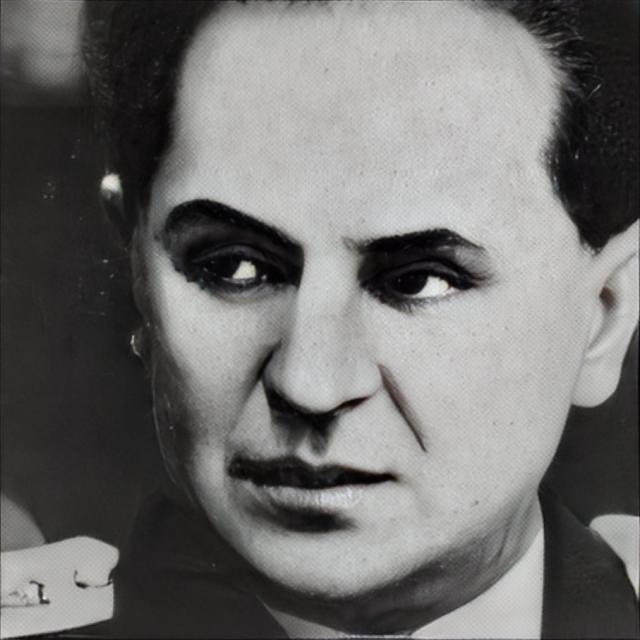anger: (147, 40, 569, 613)
